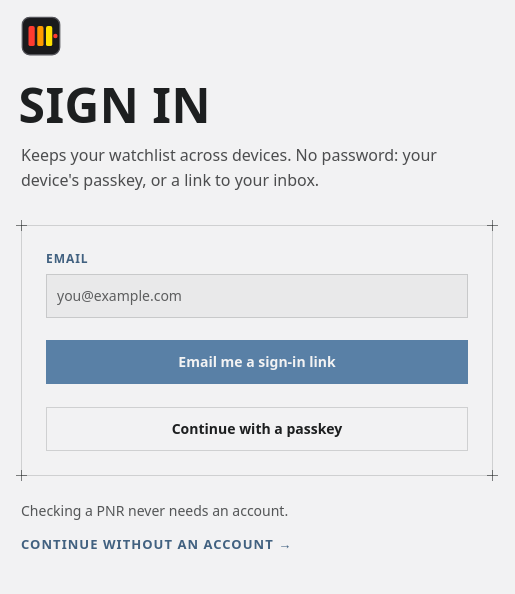
Scenario: LoginForm › shows a refused passkey on the error line, and says nothing when the prompt was dismissed
Click the button "Continue with a passkey" at (257, 429), box 46,407 -> 468,451
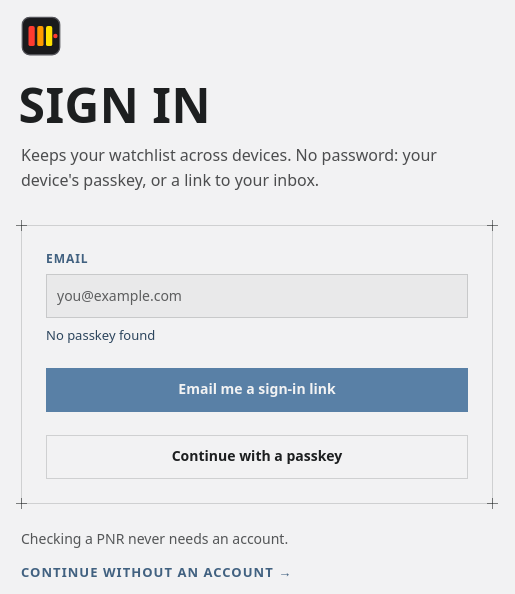
Result: the text "No passkey found" is shown at 46,326 -> 155,344
Click the button "Continue with a passkey" at (257, 457), box 46,435 -> 468,479
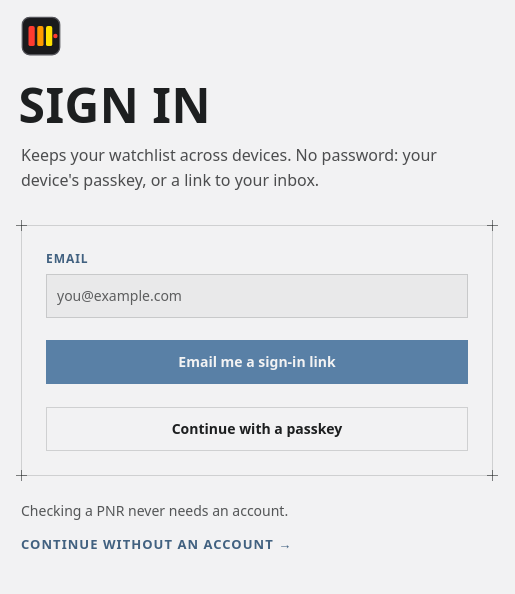
Result: the text "No passkey found" is gone
